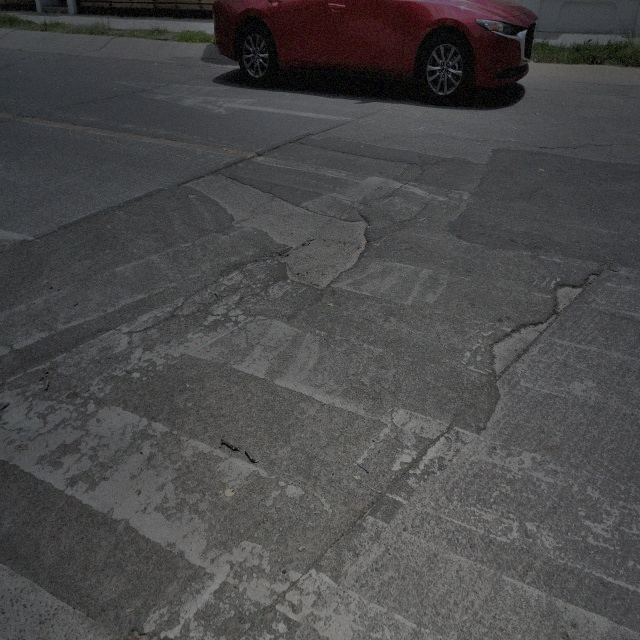pothole: (489, 310, 552, 380), (284, 240, 366, 292), (556, 281, 584, 312), (584, 270, 601, 288)
